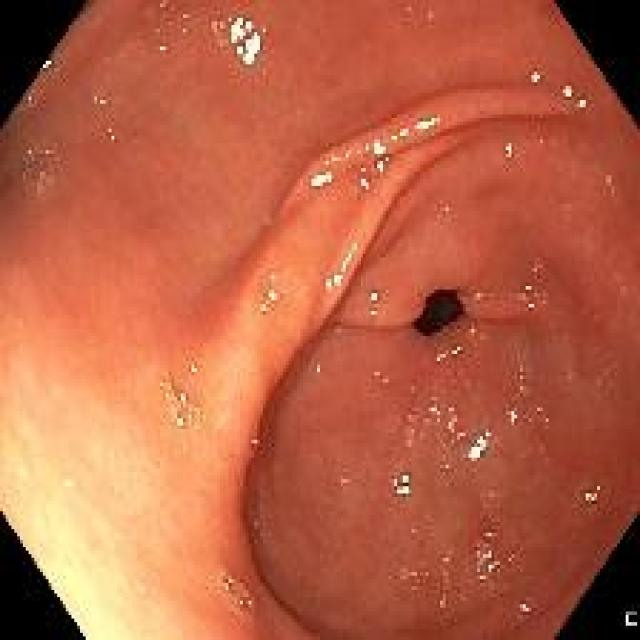bubbles: (21, 141, 65, 198), (371, 148, 397, 180), (218, 571, 235, 595), (581, 481, 595, 509), (502, 138, 516, 161), (239, 591, 251, 612)
contrast: (414, 286, 466, 335)
saturation: (17, 449, 144, 636)
specularity: (315, 109, 440, 186), (162, 357, 205, 428), (211, 13, 265, 69), (423, 392, 461, 448), (320, 241, 359, 292), (252, 273, 283, 319), (436, 553, 456, 619), (473, 526, 496, 582), (556, 80, 588, 119), (516, 273, 540, 312), (306, 167, 335, 199), (432, 338, 464, 363), (391, 466, 412, 502), (468, 429, 491, 461), (37, 50, 58, 81), (87, 90, 111, 116), (155, 41, 176, 63), (526, 65, 544, 89), (468, 320, 486, 344), (505, 400, 519, 427), (518, 599, 535, 620), (366, 284, 384, 303), (103, 122, 115, 147), (369, 309, 380, 324), (239, 598, 252, 609), (222, 576, 232, 590), (315, 365, 324, 373)
